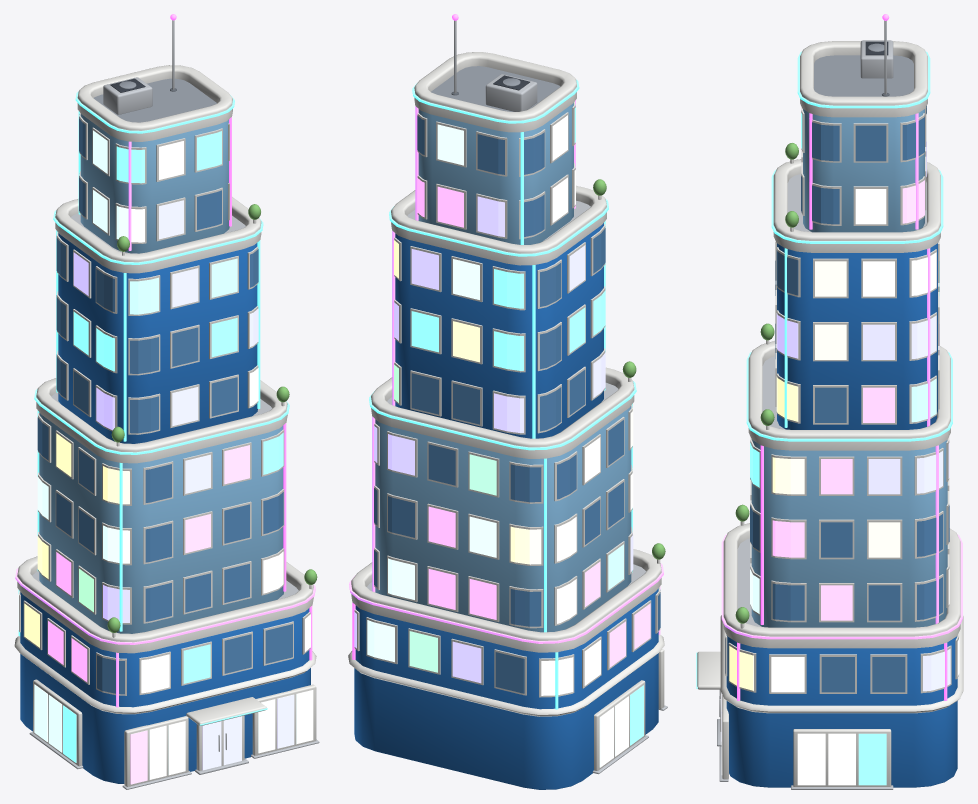
Rendered from predio_escalonado_neon_azul.glb.
3 renders of one model, left to right at view 1: azimuth 30°, elevation 25°; view 2: azimuth 150°, elevation 25°; view 3: azimuth 270°, elevation 25°, orthographic. The views are drawn at different scales.
Parts seen in each view (by area): view 1: predio_escalonado_neon_azul; view 2: predio_escalonado_neon_azul; view 3: predio_escalonado_neon_azul.
Boxes of the visible parts, left/top/right/bottom form: predio_escalonado_neon_azul: left=14, top=14, right=319, bottom=789; predio_escalonado_neon_azul: left=348, top=14, right=667, bottom=789; predio_escalonado_neon_azul: left=696, top=14, right=963, bottom=789.
Bounding box in the file's own units: 12.66 × 37.2 × 12.28.
12 materials, 1 textured.
